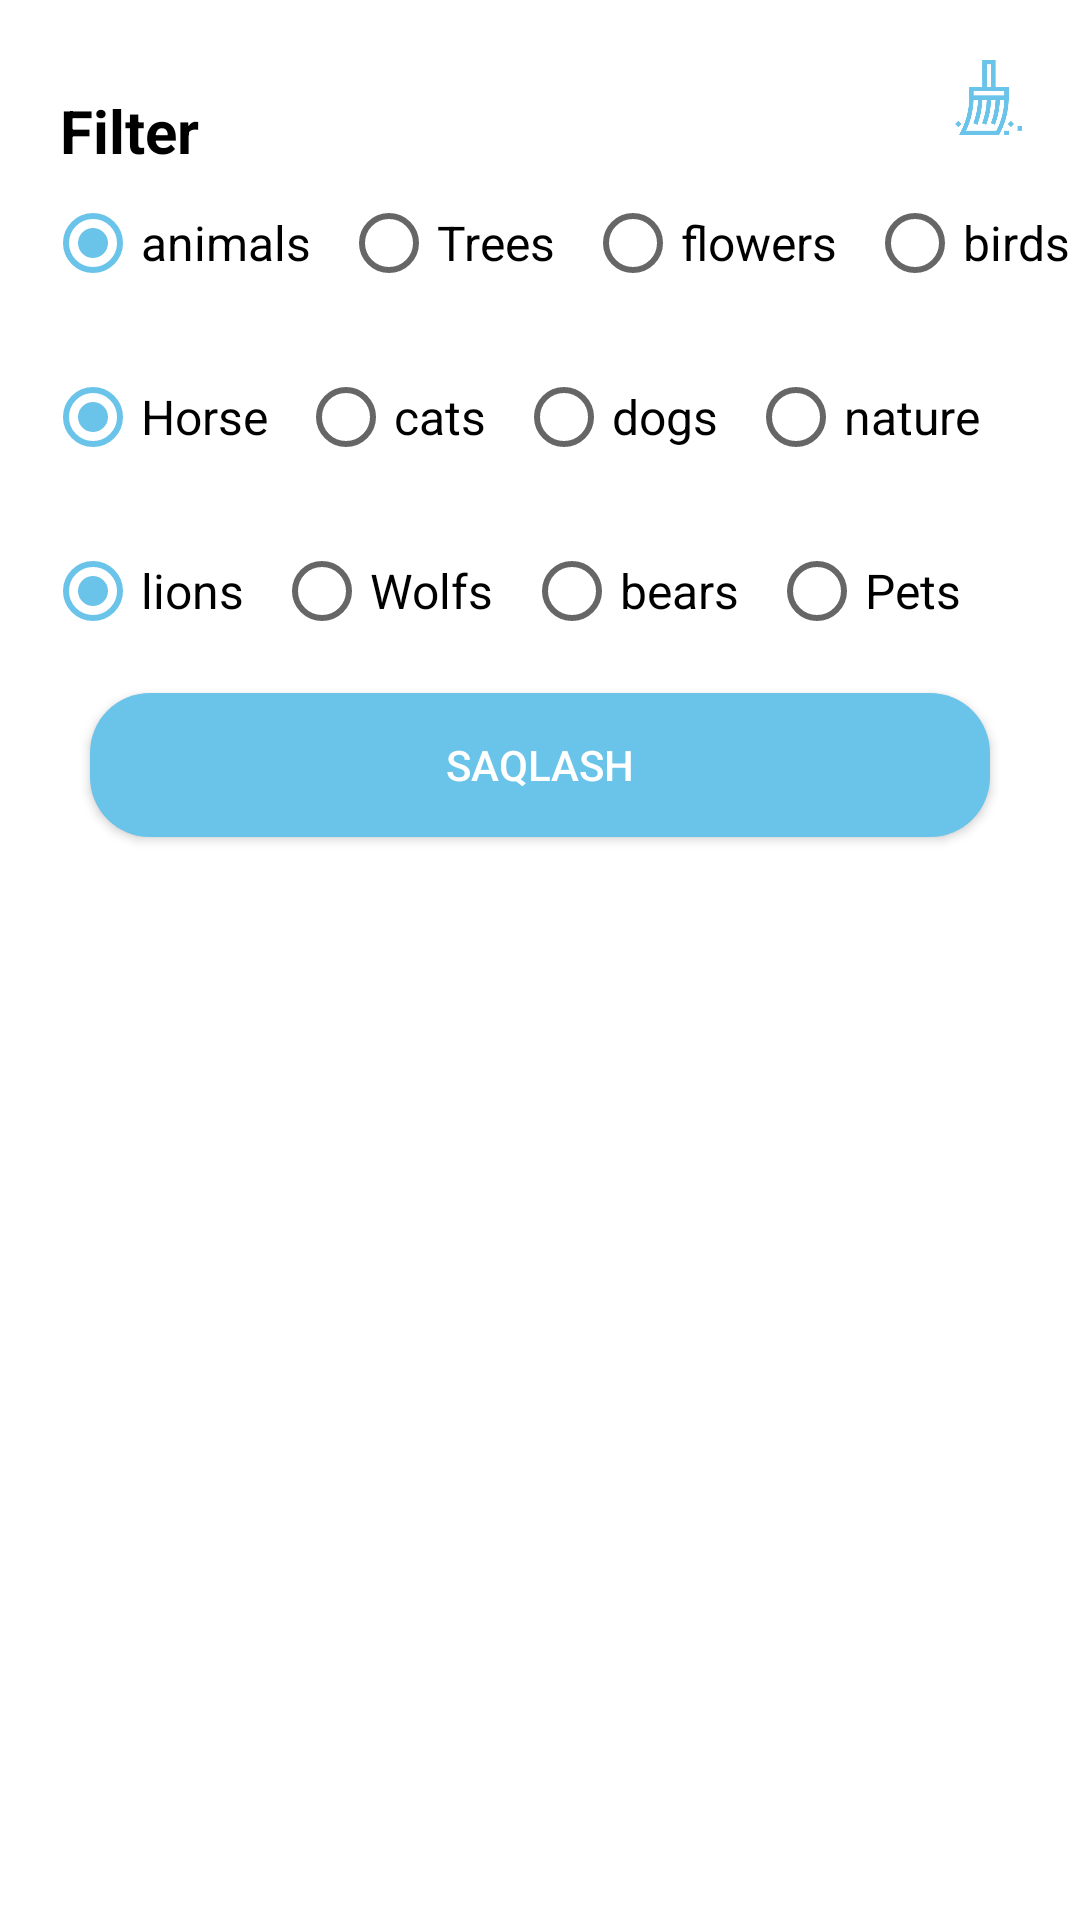

Named icons in this screenshot (1080w x 1920h) and their centers, (x=x, y=y):
clearfilter: (x=988, y=97)
